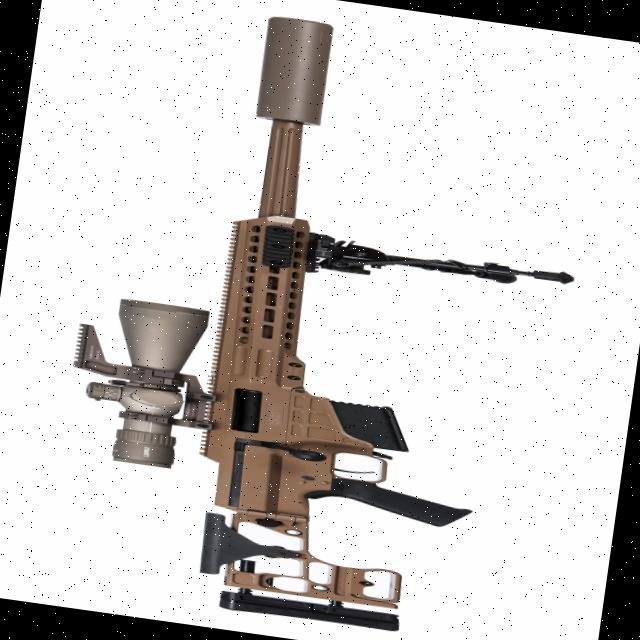Sniper: (11, 0, 637, 640)
